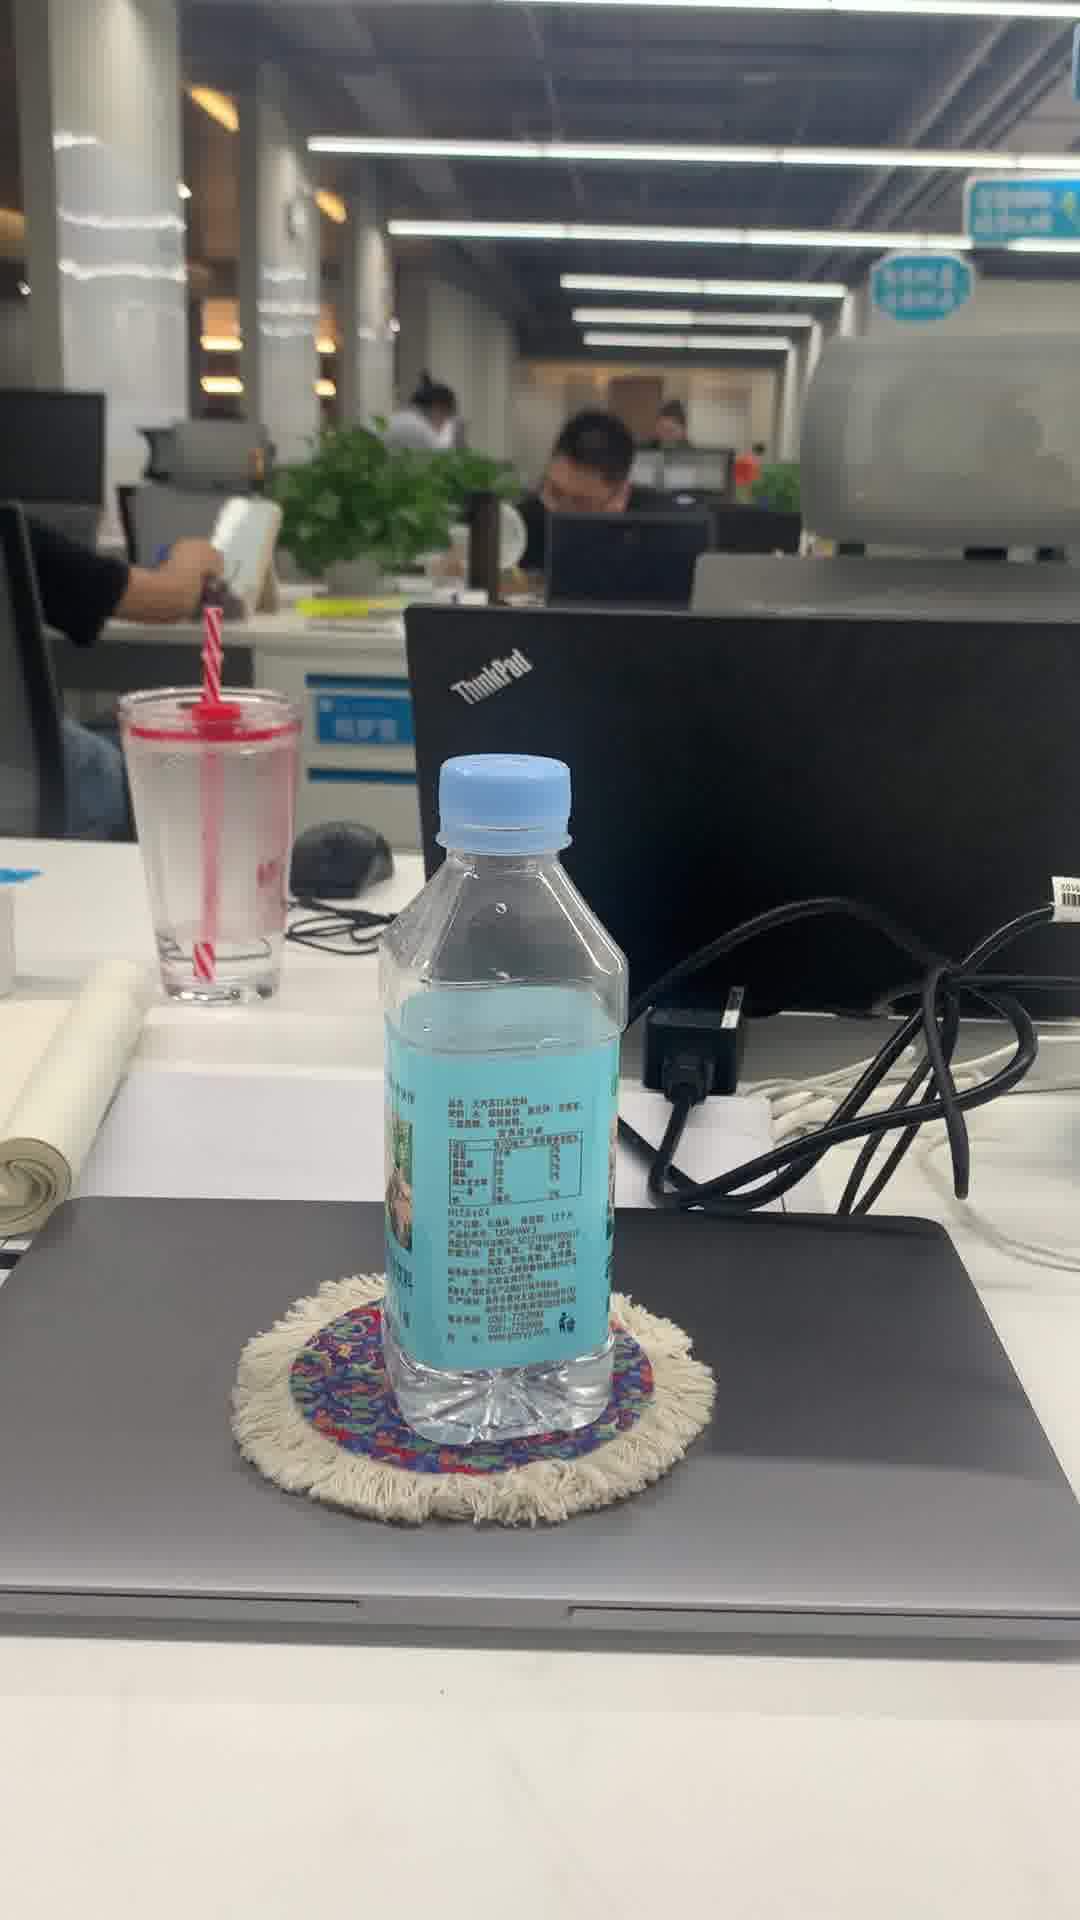水瓶: (375, 754, 636, 1448)
